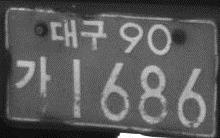0: (146, 22, 171, 56)
1: (71, 56, 83, 120)
6: (176, 66, 208, 129), (98, 60, 131, 121)
8: (138, 63, 168, 125)
9: (118, 21, 143, 54)
가: (14, 54, 52, 100)
대구_O: (49, 18, 107, 53)
